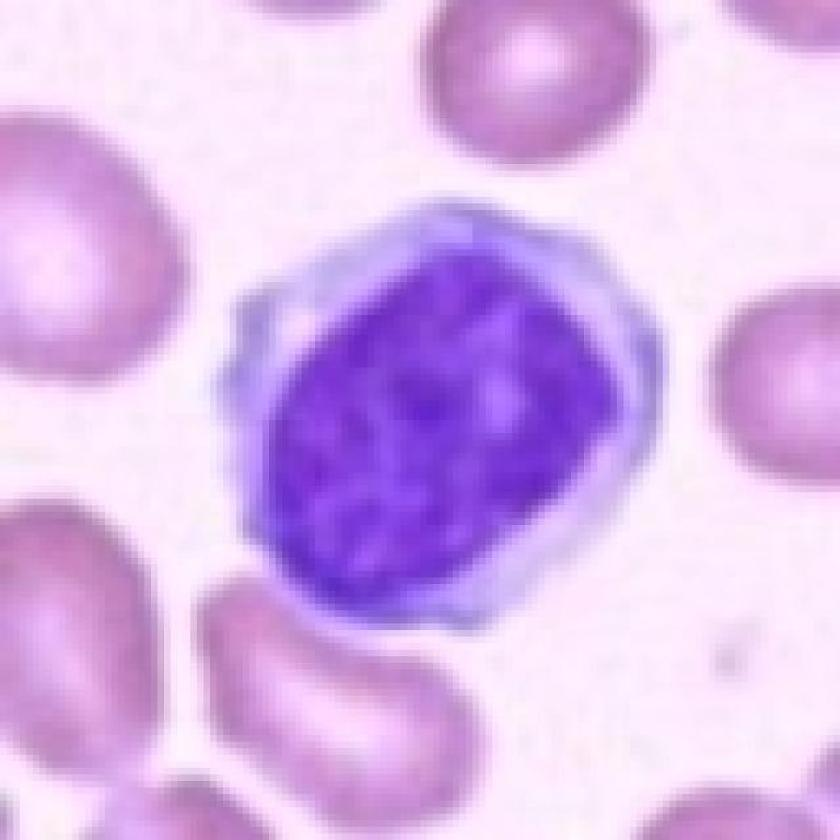lymphocyte: (211, 190, 676, 634)
